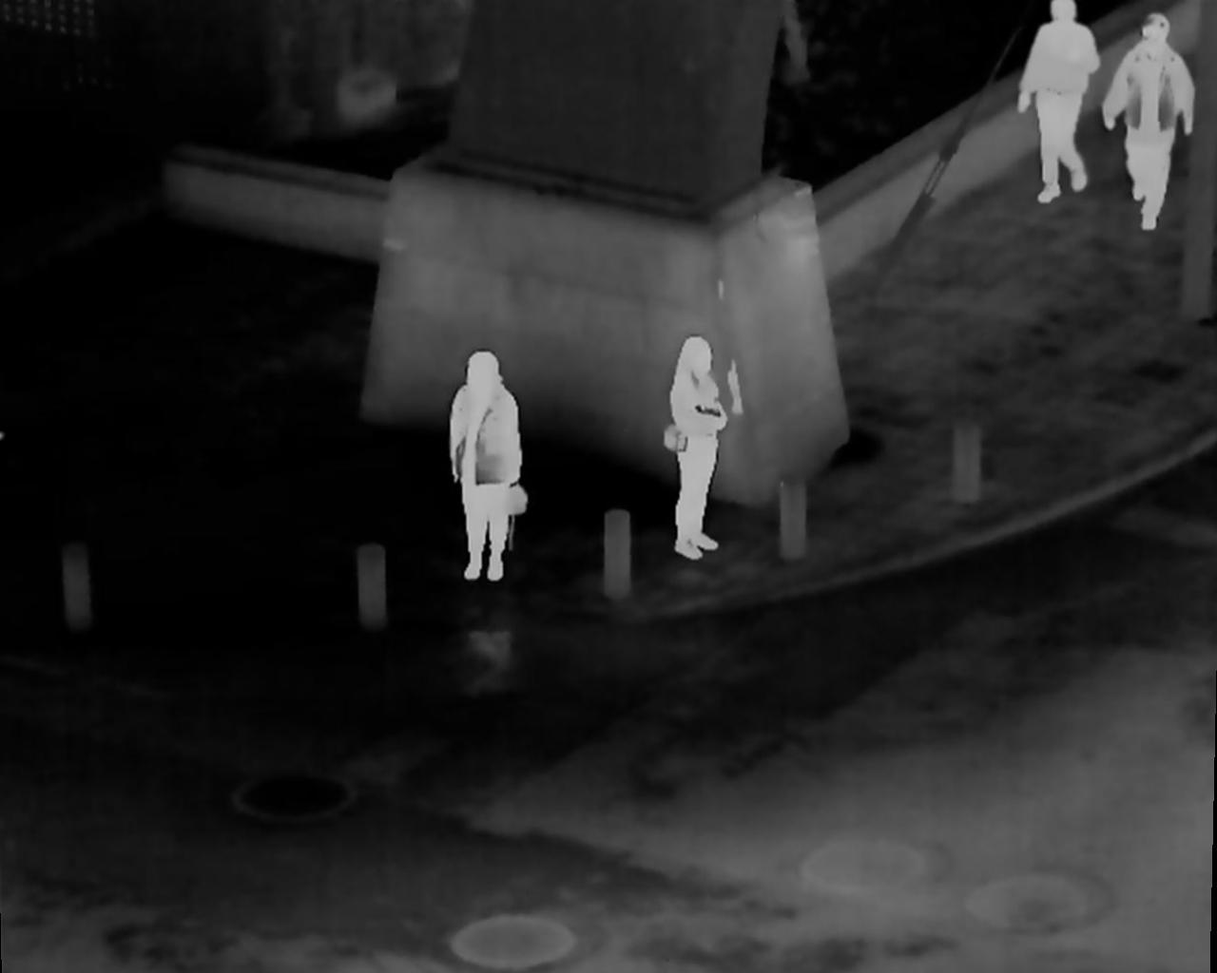person: (1094, 12, 1194, 226), (659, 338, 743, 561), (454, 350, 524, 580)
